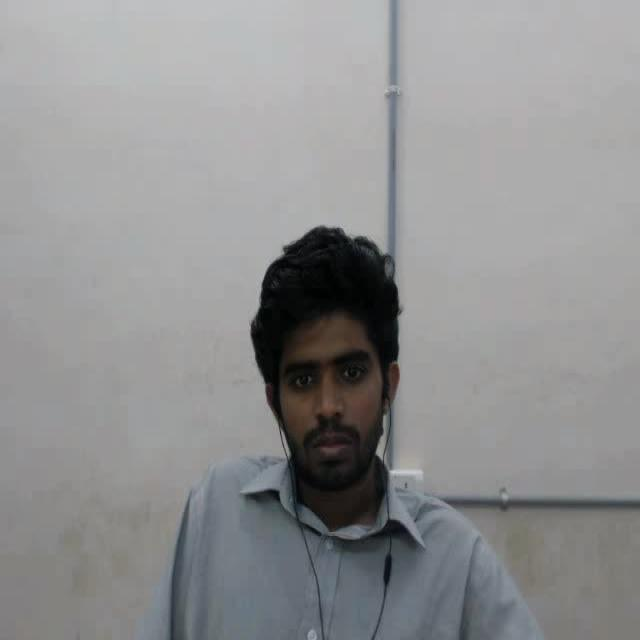Engaged: (235, 210, 423, 498)
